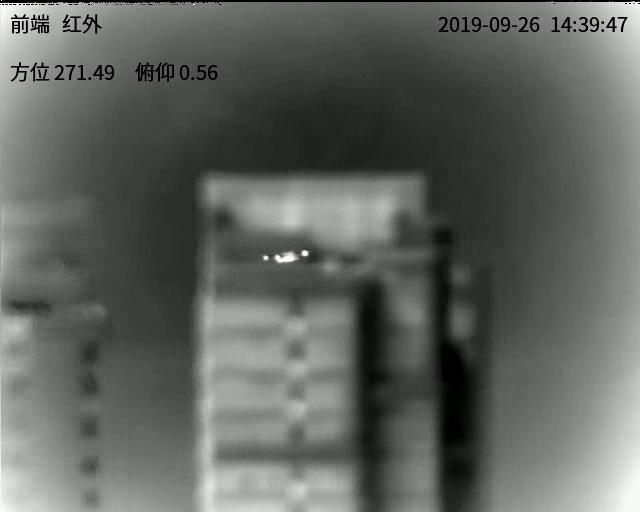DRONE: (260, 248, 312, 267)
